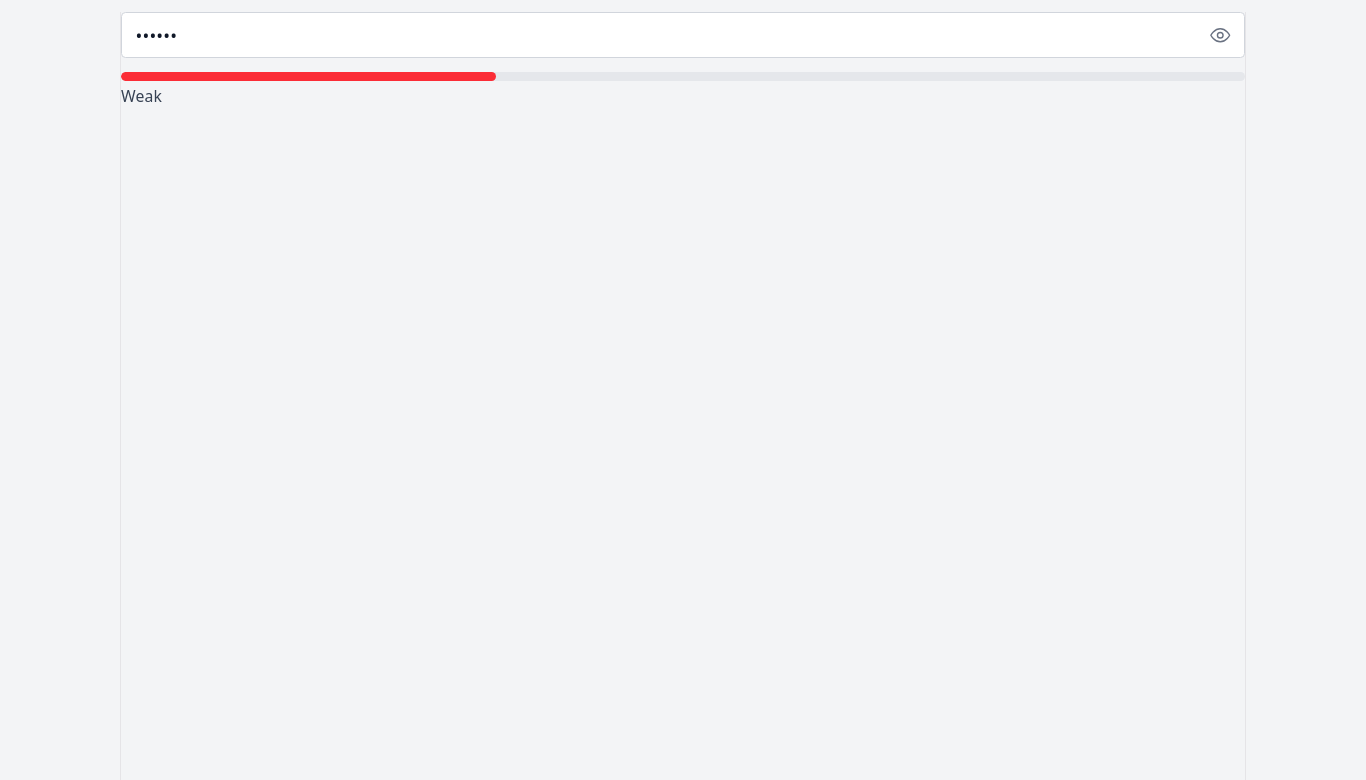
Scenario: PasswordInput › show/hide toggle › shows the text when the toggle is clicked
The image size is (1366, 780).
Click the button named "show": click(1220, 35) [1196, 12, 1245, 58]
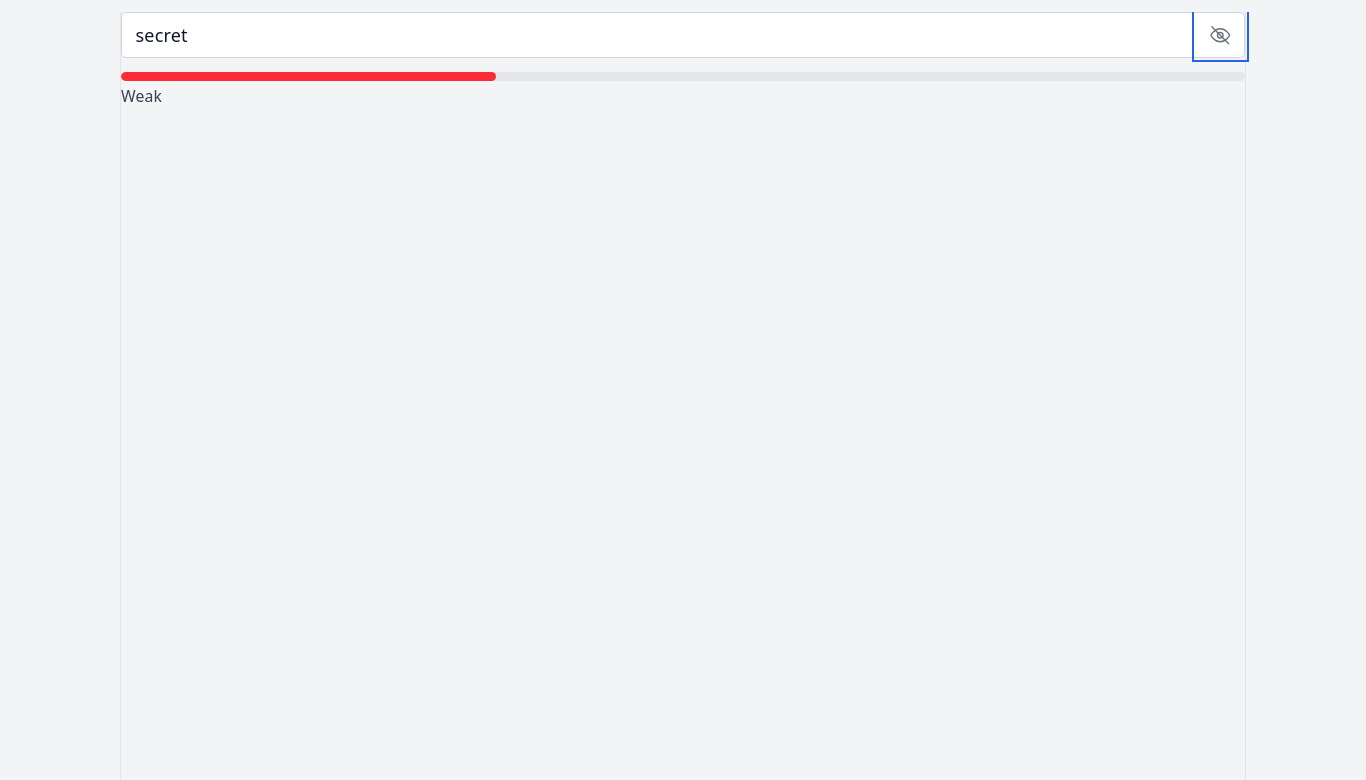
Result: the field named "Password" shows its text at [121, 12, 1245, 58]
Result: the button named "hide" is shown at [1196, 12, 1245, 58]
